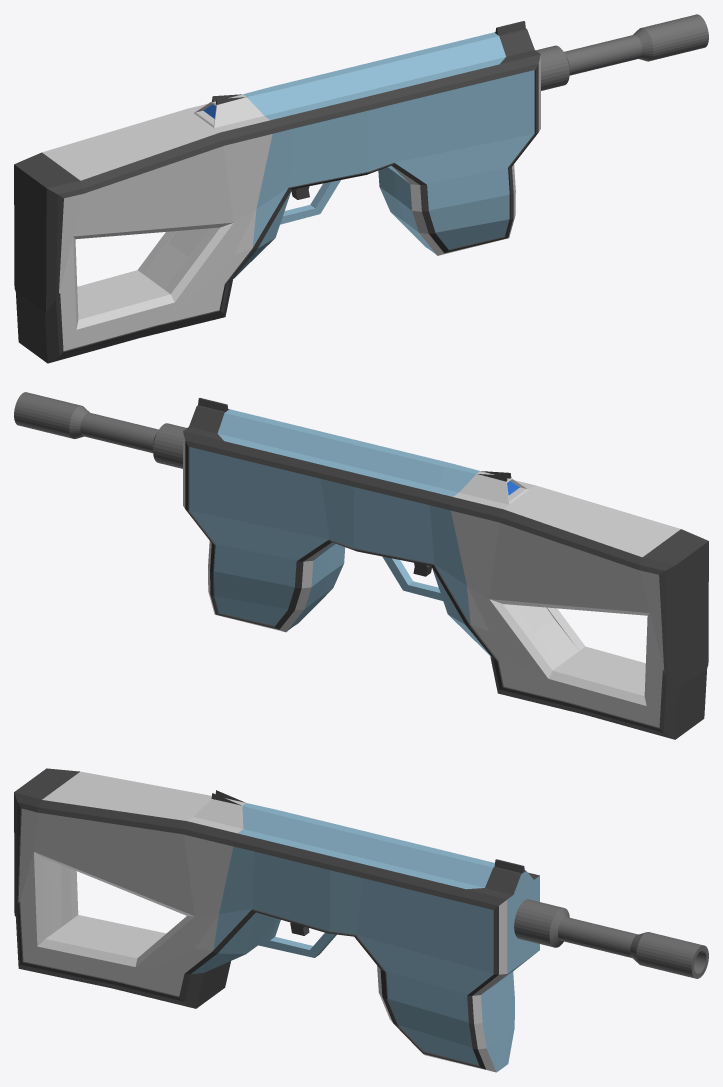
The model's file is Rifle.fbx.
The picture shows the model from 3 angles, top to bottom: view 1: azimuth 30°, elevation 25°; view 2: azimuth 150°, elevation 25°; view 3: azimuth 330°, elevation 25°; orthographic projection.
Visible parts, largest first — view 1: Cube, Cylinder; view 2: Cube, Cylinder; view 3: Cube, Cylinder.
Boxes of the visible parts, <box> form: Cube: <box>14,21,540,363</box>; Cylinder: <box>536,14,708,90</box>; Cube: <box>183,398,708,739</box>; Cylinder: <box>14,392,186,468</box>; Cube: <box>14,768,539,1072</box>; Cylinder: <box>514,899,708,978</box>.
Size of the model in its own units: 1882 by 568 by 225.
